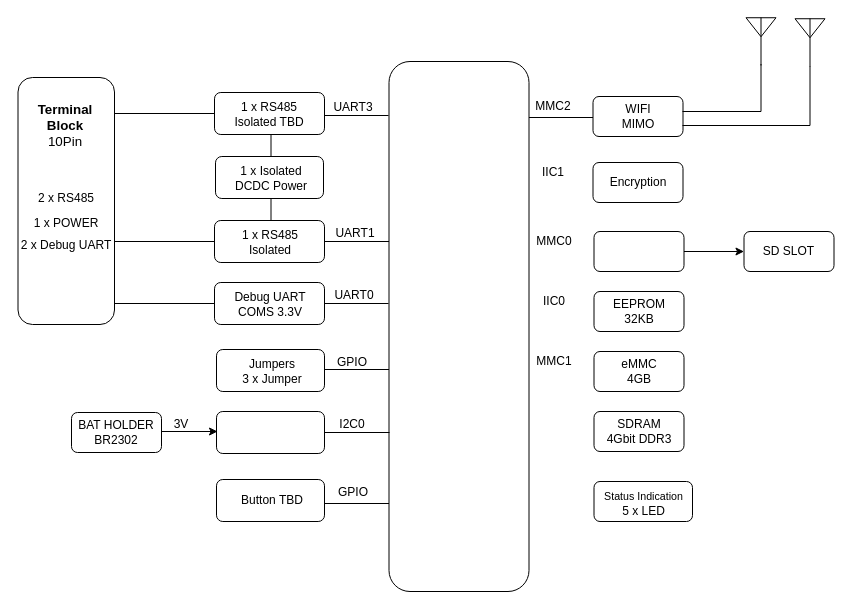
Some shapes in this 851 by 609 pixel diagram are drawn without their labels. The centre of each missing label's shape, as x and y in pixels:
"AM3352BZCZA100" goes at [458,326].
"EMI Filter" goes at [638,251].
"RTC With backup BAT" goes at [270,432].
